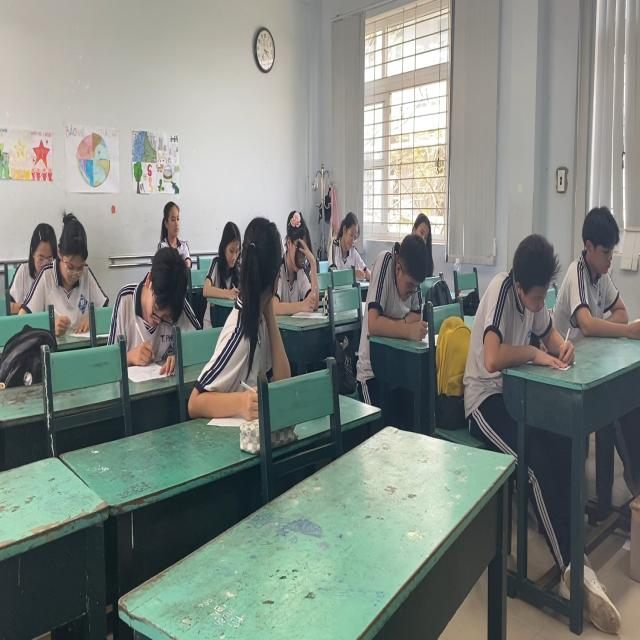cheating: (227, 205, 291, 409)
not_cheating: (464, 233, 562, 365), (569, 205, 640, 360), (19, 208, 95, 330), (122, 250, 196, 371), (367, 223, 427, 344), (282, 201, 319, 319), (324, 196, 364, 274), (157, 192, 192, 260), (208, 222, 239, 288)
